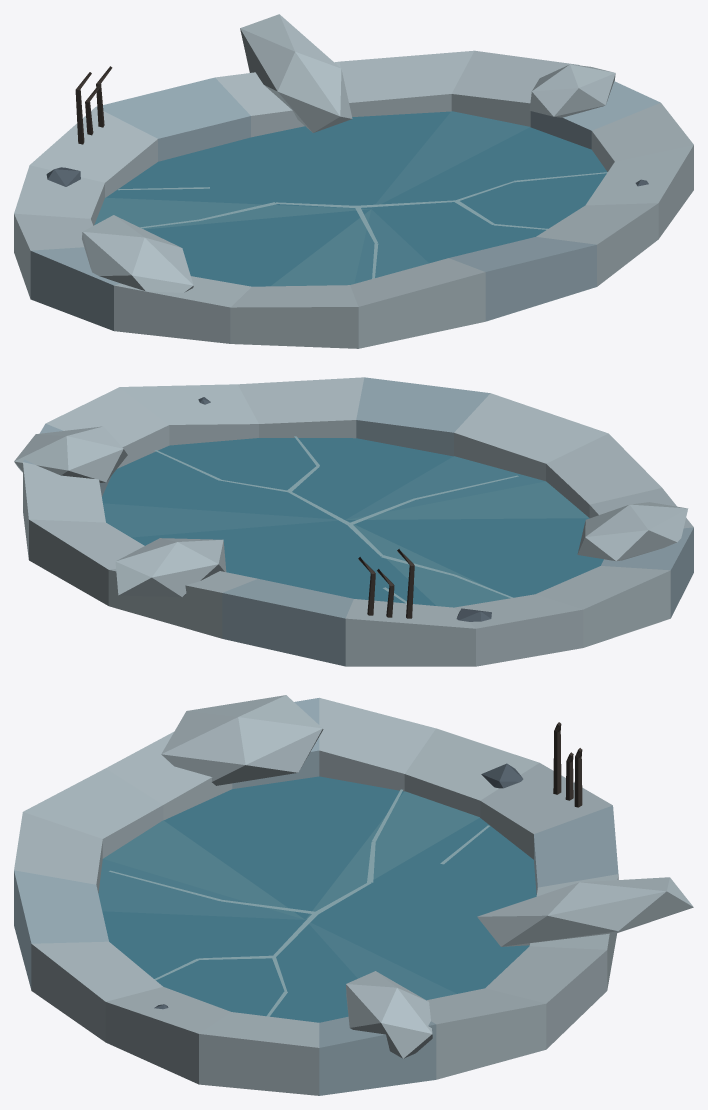
File: Frozen_Pond_Rim.glb
3 views of the same model, one above another, from view 1: azimuth 30°, elevation 25°; view 2: azimuth 150°, elevation 25°; view 3: azimuth 270°, elevation 25° (orthographic). The views are drawn at different scales.
Visible parts, largest first — view 1: Frozen_Pond_Rim; view 2: Frozen_Pond_Rim; view 3: Frozen_Pond_Rim.
Boxes of the visible parts, x1,y1,x2,y2 form: Frozen_Pond_Rim: (14,14,693,348); Frozen_Pond_Rim: (14,377,693,666); Frozen_Pond_Rim: (14,695,693,1095).
Size of the model in its own units: 4.65 by 0.7669 by 3.88.
